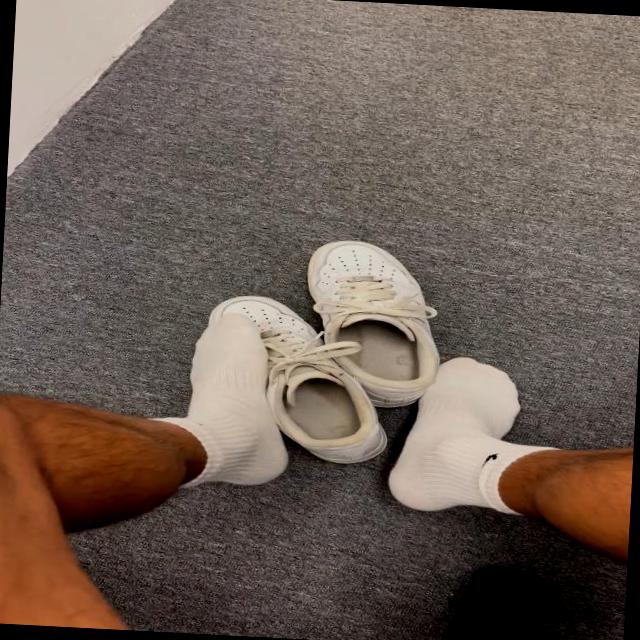nike_original_airforce: (183, 295, 400, 474), (292, 232, 451, 410)
